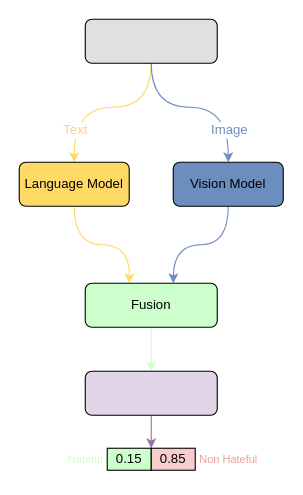
The diagram is 303 pixels wide and 495 high, and some of its shapes have lost their labels. The shapes that lost their labels are listed below. From the top down, each one's centre as x and y in pixels, then its label:
At point 150,40: "Multimodal Data".
At point 150,392: "Classifier".
